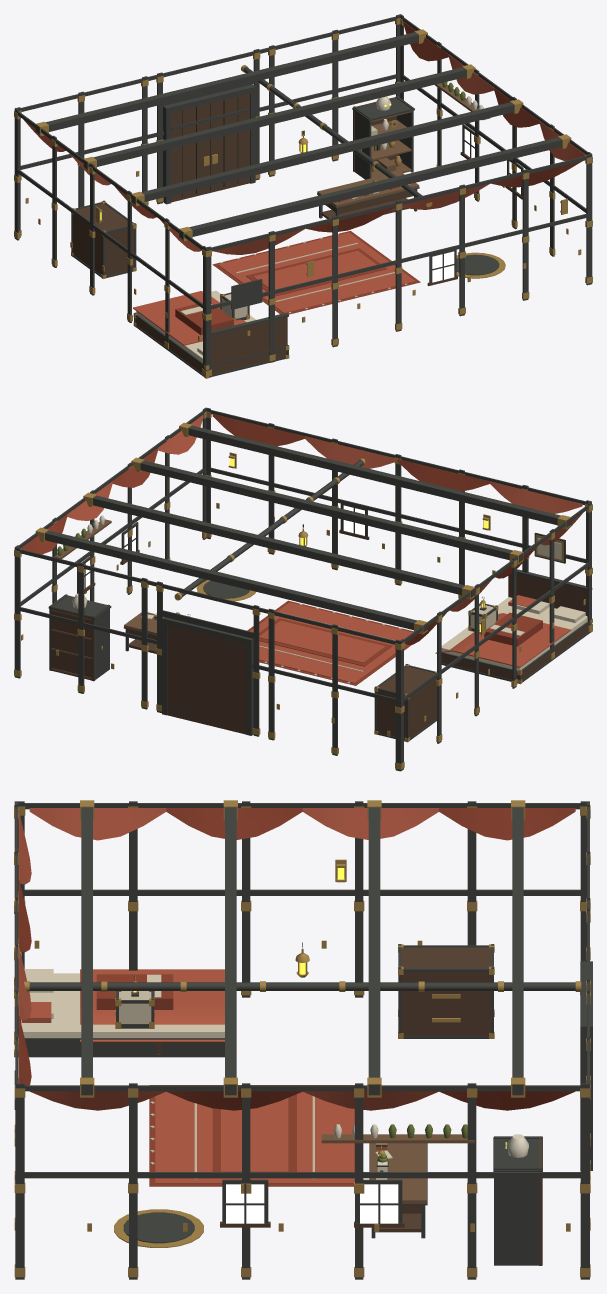
The model's file is home_set.glb.
3 renders of one model, top to bottom at view 1: azimuth 30°, elevation 25°; view 2: azimuth 150°, elevation 25°; view 3: azimuth 270°, elevation 25°, orthographic. The views are drawn at different scales.
Visible parts, largest first — view 1: home_set; view 2: home_set; view 3: home_set.
Boxes of the visible parts, bbox=[...] form: home_set: bbox=[14, 14, 592, 378]; home_set: bbox=[14, 407, 592, 771]; home_set: bbox=[14, 800, 592, 1279].
Size of the model in its own units: 14.08 by 4.52 by 12.1.
